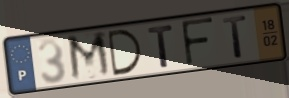3: (37, 36, 69, 85)
D: (106, 27, 146, 78)
F: (179, 16, 216, 68)
M: (65, 30, 115, 84)
T: (146, 23, 176, 70), (221, 14, 249, 60)
